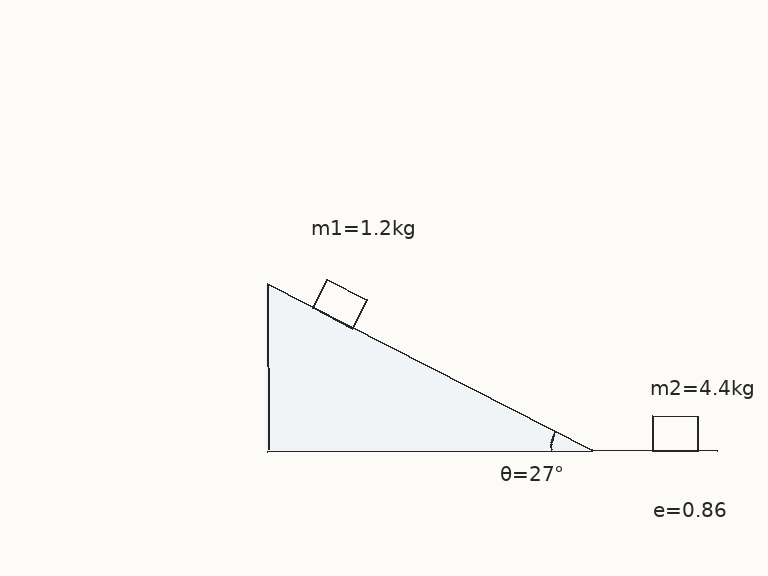block: (311, 277, 368, 330), (650, 414, 700, 452)
ramp: (265, 283, 593, 452)
